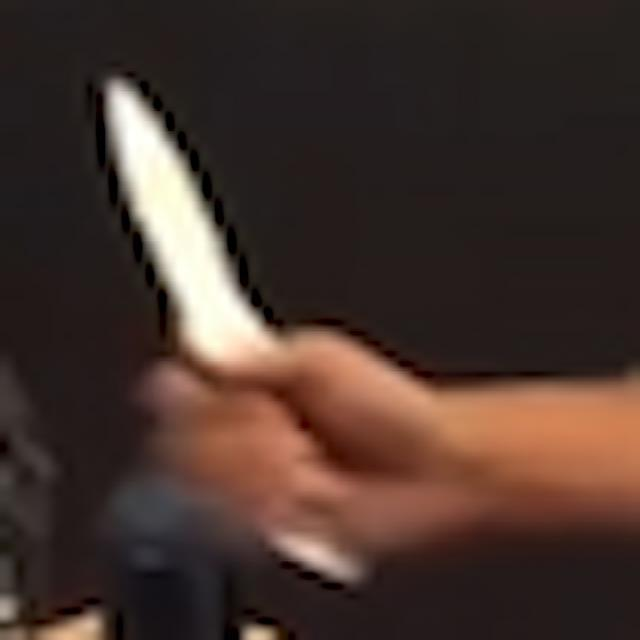suspicion: (74, 48, 636, 584), (80, 51, 266, 339)
